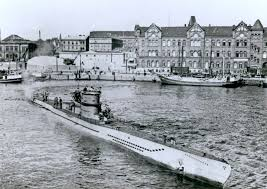boat: (30, 84, 231, 189), (151, 69, 242, 89), (1, 56, 25, 84)
